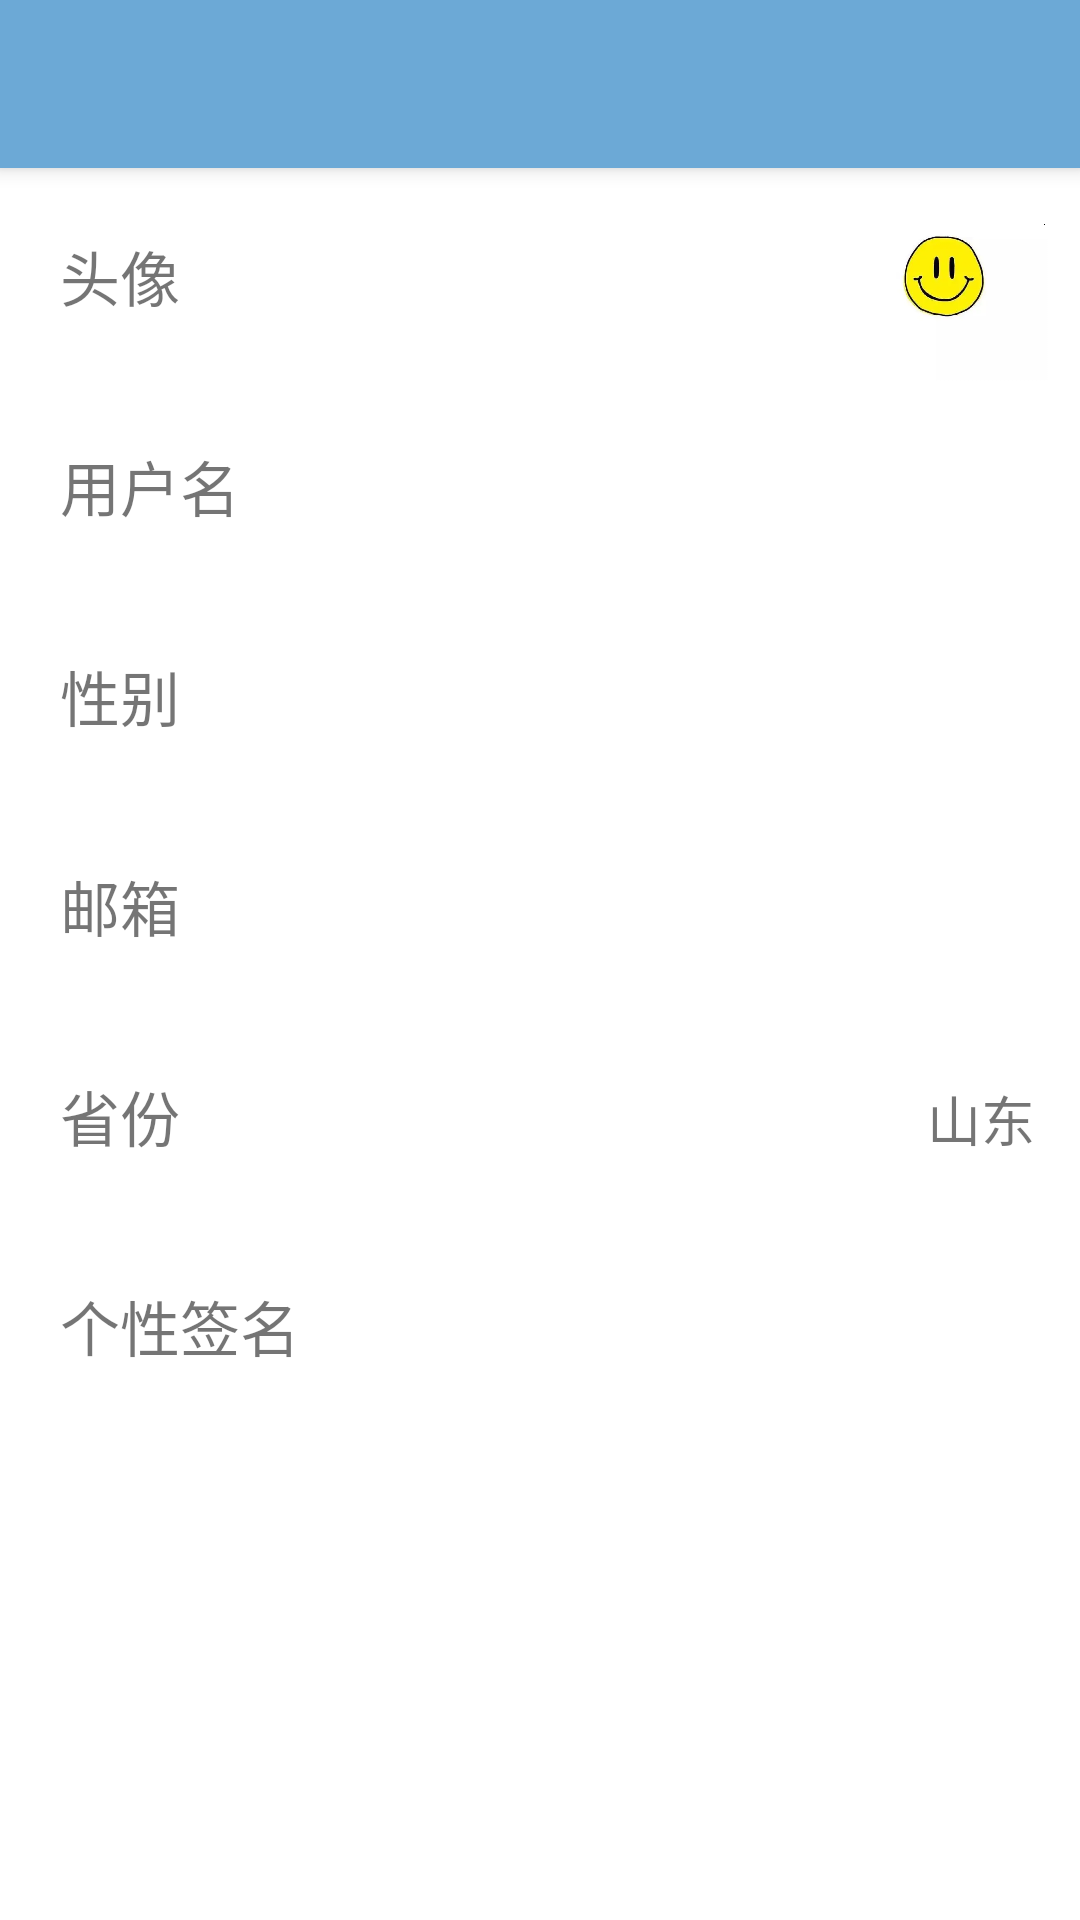

Icon click points for this 1080px×1920px phone screenshot, format (x=x, y=y):
touxiang: (x=974, y=270)
